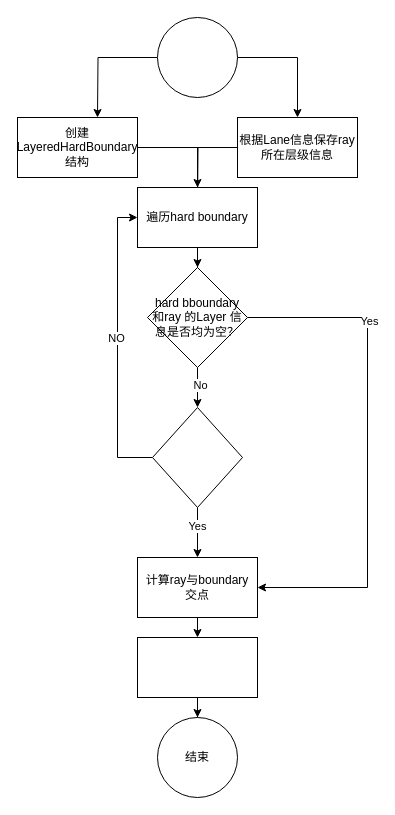
This 395x815 diagram has some shape labels left out. The shapes that lost their labels are listed below. From the top down, each one's centre as x and y in pixels, then its label:
At point 197,57: "开始".
At point 197,457: "hard boundary 与ray 层级是否匹配？".
At point 197,667: "更新同一条ray 的lateral clearance".
